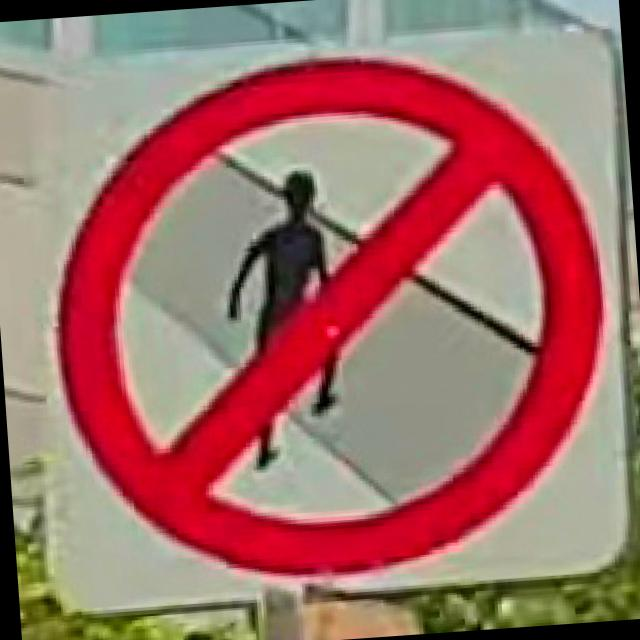nojaywalking_sign: (14, 25, 640, 616), (211, 162, 358, 474)
